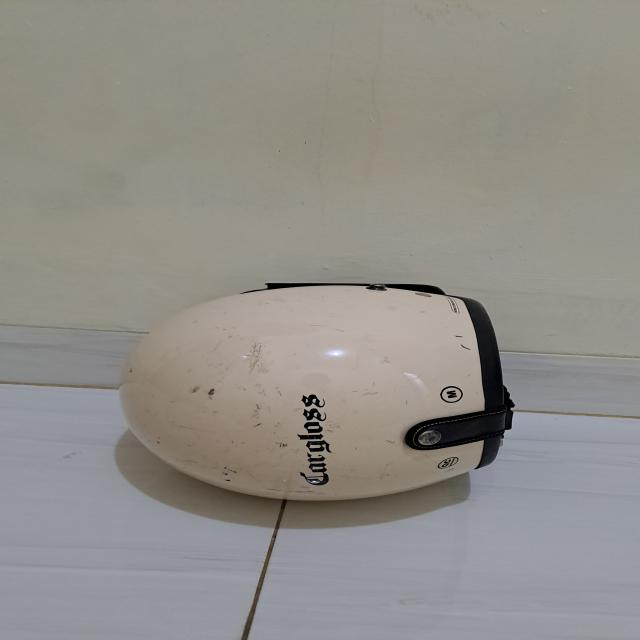Helm: (123, 270, 525, 522)
